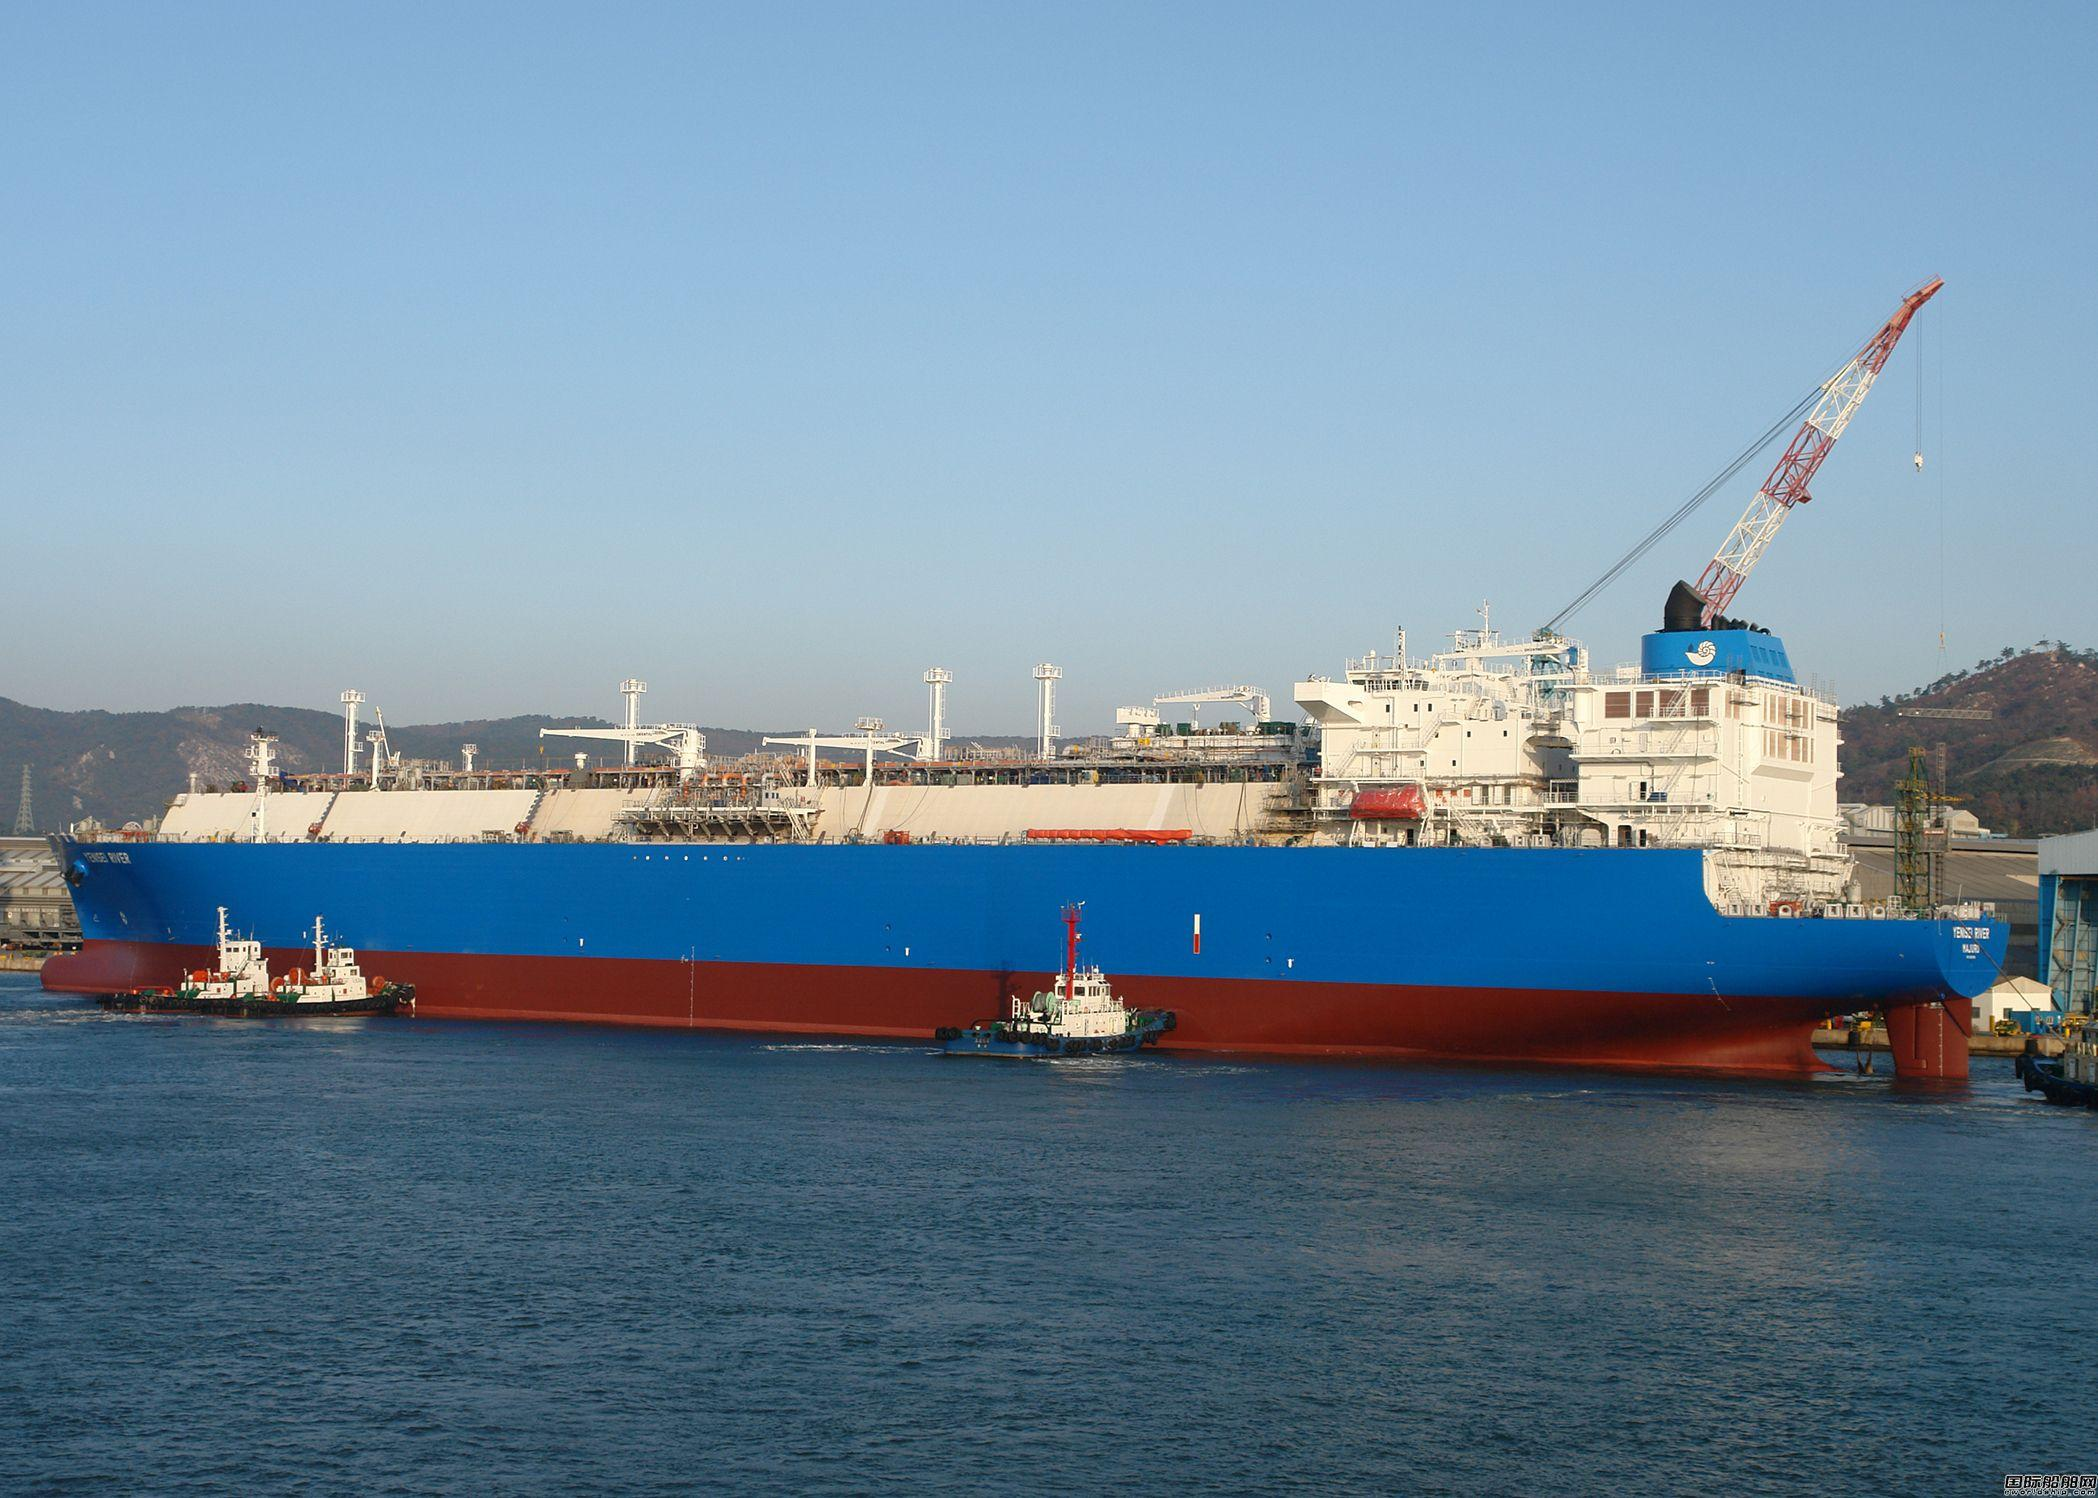Cargoship: (31, 550, 2015, 1075)
otherboat: (910, 931, 1188, 1067), (212, 918, 409, 1029), (84, 922, 271, 1033)
